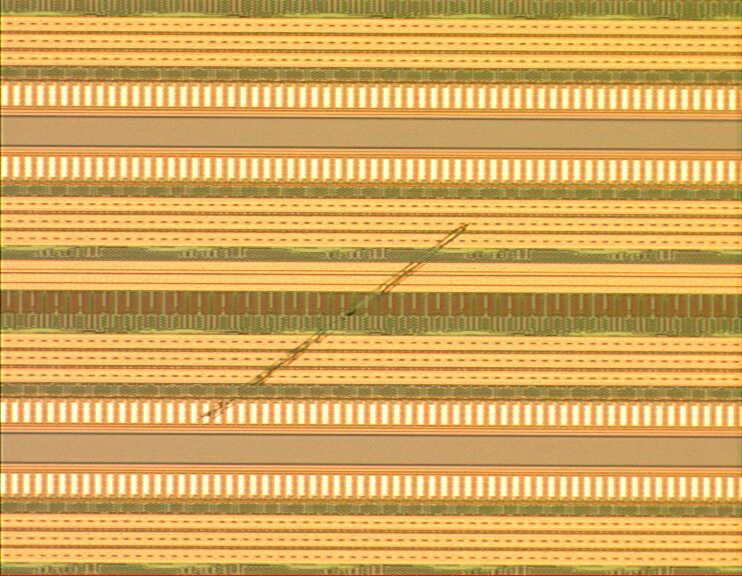SCRATCH: (189, 214, 480, 427)
